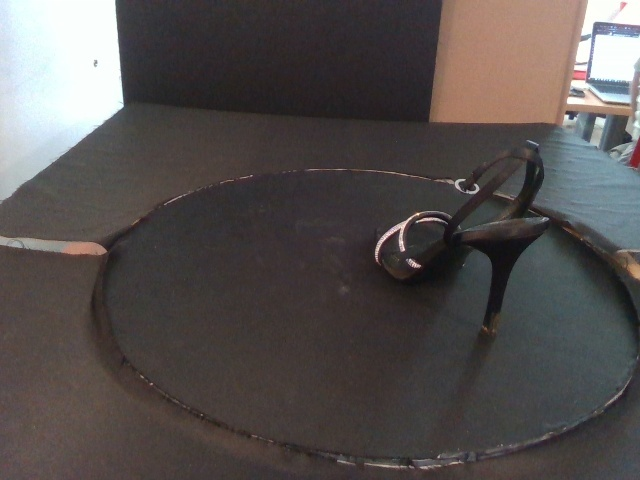shoe: (369, 139, 551, 337)
